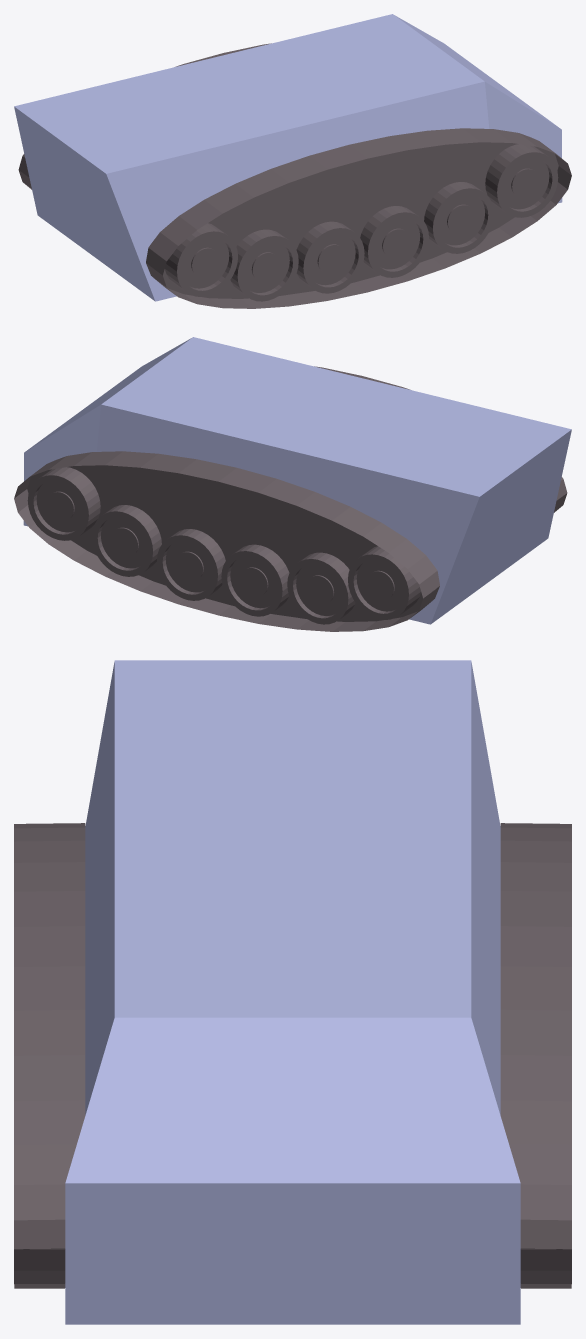
3 views of the same model, one above another, from view 1: azimuth 30°, elevation 25°; view 2: azimuth 150°, elevation 25°; view 3: azimuth 270°, elevation 25° (orthographic). The views are drawn at different scales.
Visible parts, largest first — view 1: Cube, Cube.001; view 2: Cube, Cube.001; view 3: Cube, Cube.001.
Boxes of the visible parts, <box> form: Cube: <box>14,14,562,301</box>; Cube.001: <box>18,43,571,308</box>; Cube: <box>23,337,571,624</box>; Cube.001: <box>14,366,567,631</box>; Cube: <box>65,660,520,1324</box>; Cube.001: <box>14,823,571,1288</box>.
Size of the model in its own units: 404 by 137 by 228.
